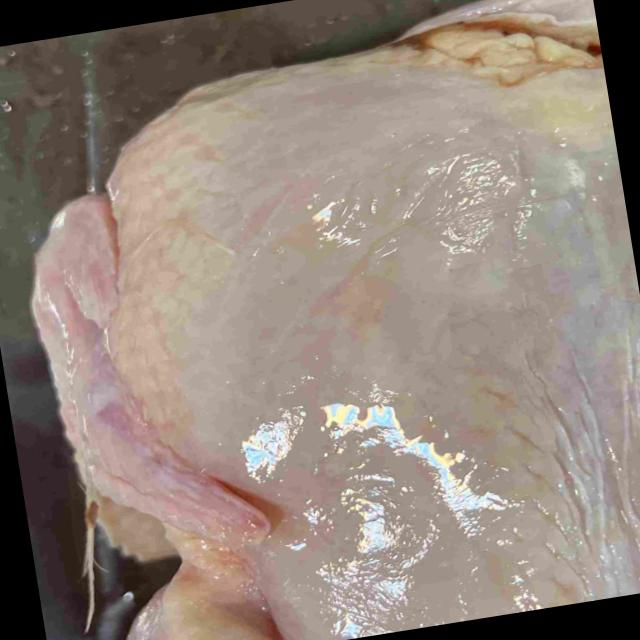breast: (111, 59, 640, 640)
wing: (24, 199, 270, 564)
